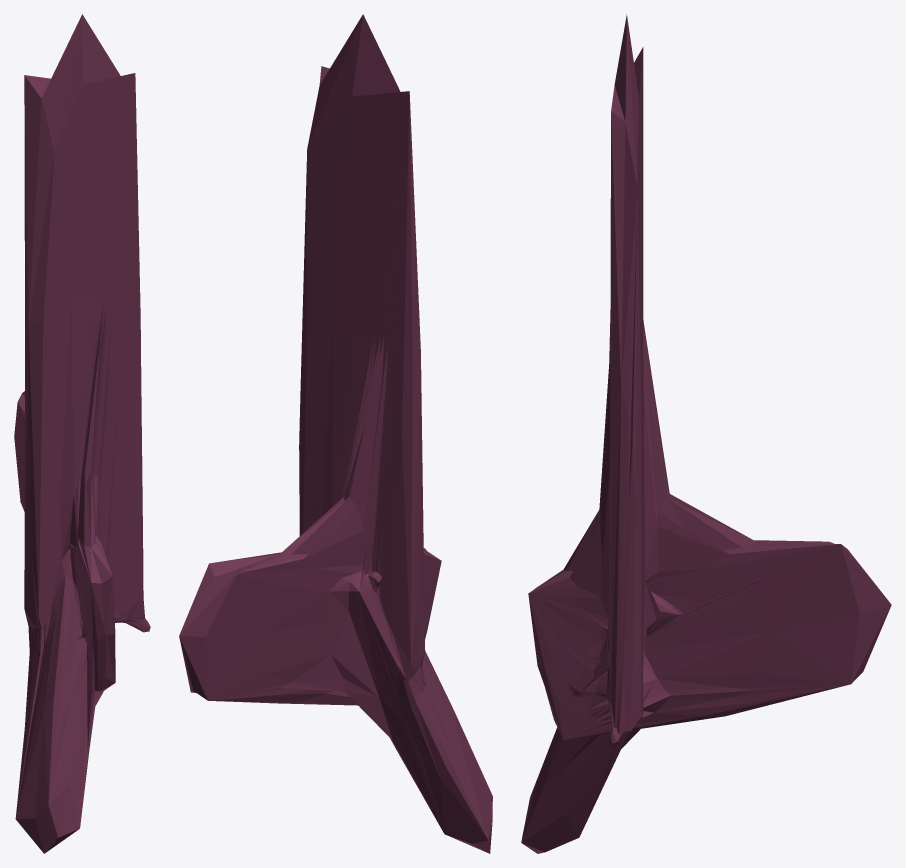
3 renders of one model, left to right at view 1: azimuth 30°, elevation 25°; view 2: azimuth 150°, elevation 25°; view 3: azimuth 270°, elevation 25°, orthographic. The views are drawn at different scales.
Parts seen in each view (by area): view 1: 149_Cube.620; view 2: 149_Cube.620; view 3: 149_Cube.620.
Boxes of the visible parts, x1=… form: 149_Cube.620: x1=14, y1=14, x2=150, y2=853; 149_Cube.620: x1=179, y1=14, x2=492, y2=853; 149_Cube.620: x1=521, y1=14, x2=891, y2=853.
Size of the model in its own units: 3.13 by 15.38 by 5.85.
